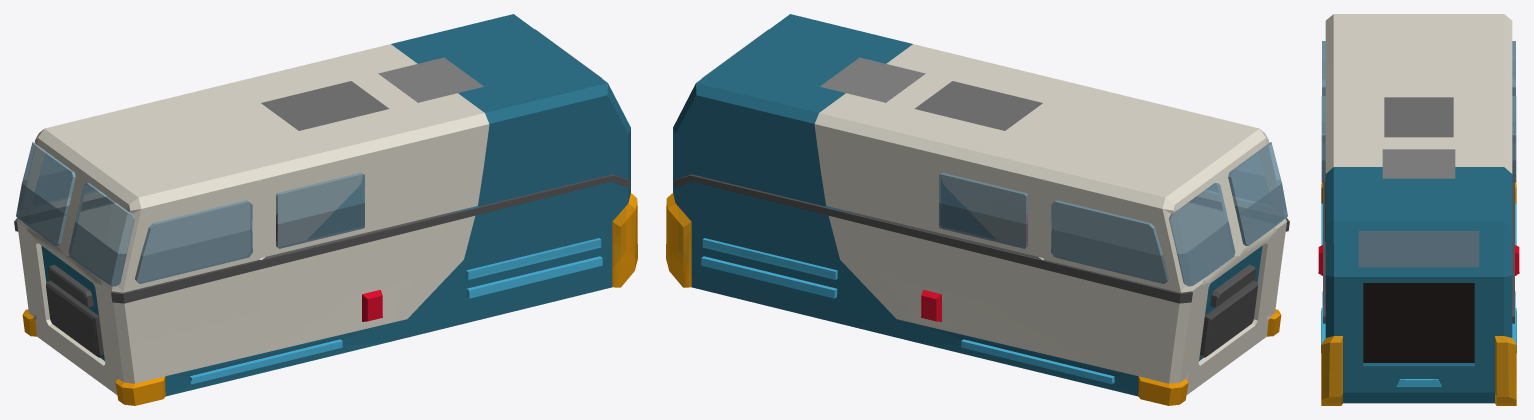
The model's file is bashi.fbx.
3 views of the same model, side by side, from view 1: azimuth 30°, elevation 25°; view 2: azimuth 150°, elevation 25°; view 3: azimuth 270°, elevation 25° (orthographic). The views are drawn at different scales.
Parts seen in each view (by area): view 1: CAR_UV:pCube2; view 2: CAR_UV:pCube2; view 3: CAR_UV:pCube2.
Boxes of the visible parts, <box> form: CAR_UV:pCube2: <box>14,14,637,405</box>; CAR_UV:pCube2: <box>666,14,1289,405</box>; CAR_UV:pCube2: <box>1318,14,1519,405</box>.
Bounding box in the file's own units: 14.6 × 5.34 × 5.34.
